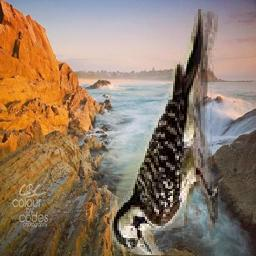Woodpecker: (110, 9, 218, 255)
